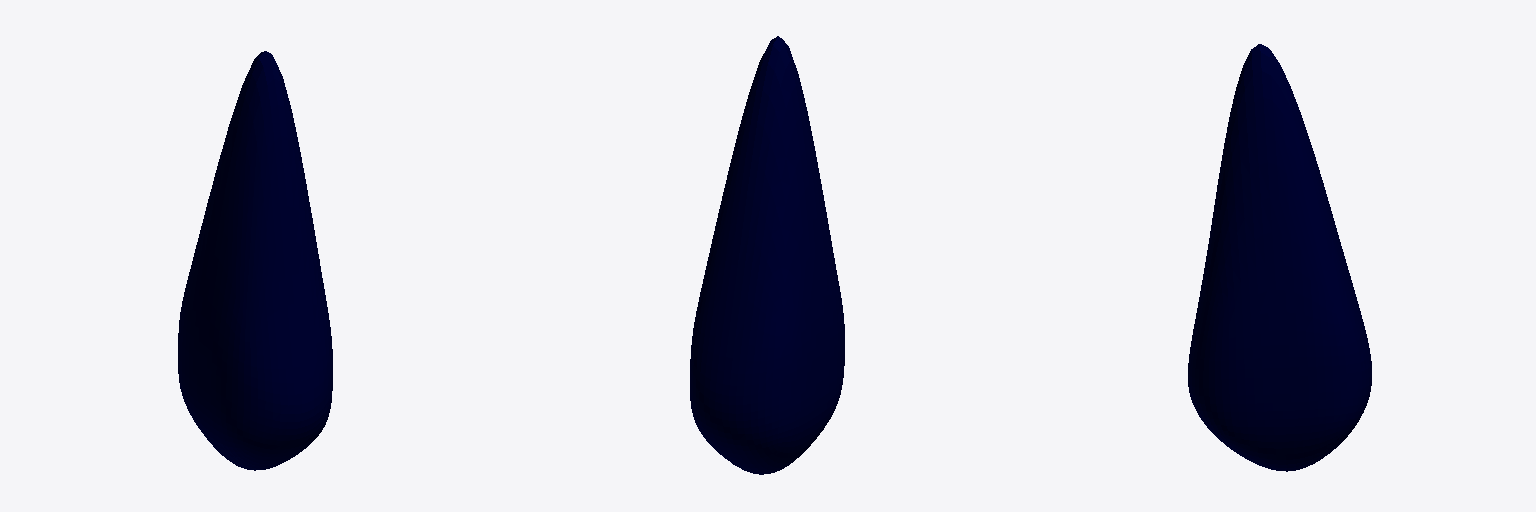
Rendered from raindrop.obj.
3 renders of one model, left to right at view 1: azimuth 30°, elevation 25°; view 2: azimuth 150°, elevation 25°; view 3: azimuth 270°, elevation 25°, orthographic.
Parts seen in each view (by area): view 1: 00014; view 2: 00014; view 3: 00014.
Boxes of the visible parts, x1,y1,x2,y2 form: 00014: [178, 51, 332, 470]; 00014: [690, 36, 844, 474]; 00014: [1188, 44, 1371, 471].
Size of the model in its own units: 0.0131 by 0.0501 by 0.0197.